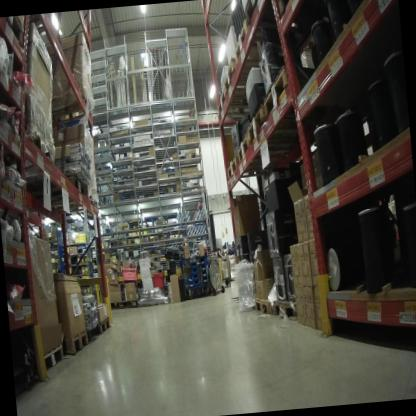pallet: (257, 57, 355, 139), (242, 101, 319, 156), (224, 153, 324, 194), (232, 18, 313, 67), (231, 125, 308, 175), (29, 170, 106, 217), (0, 121, 59, 177), (219, 56, 283, 104), (241, 0, 317, 34), (211, 86, 280, 119), (45, 89, 98, 124), (63, 327, 96, 362), (274, 0, 335, 17), (0, 18, 30, 52), (272, 294, 299, 325), (40, 345, 66, 375), (93, 315, 114, 339), (252, 293, 274, 315), (117, 294, 139, 312), (87, 321, 100, 342), (105, 299, 122, 312)
